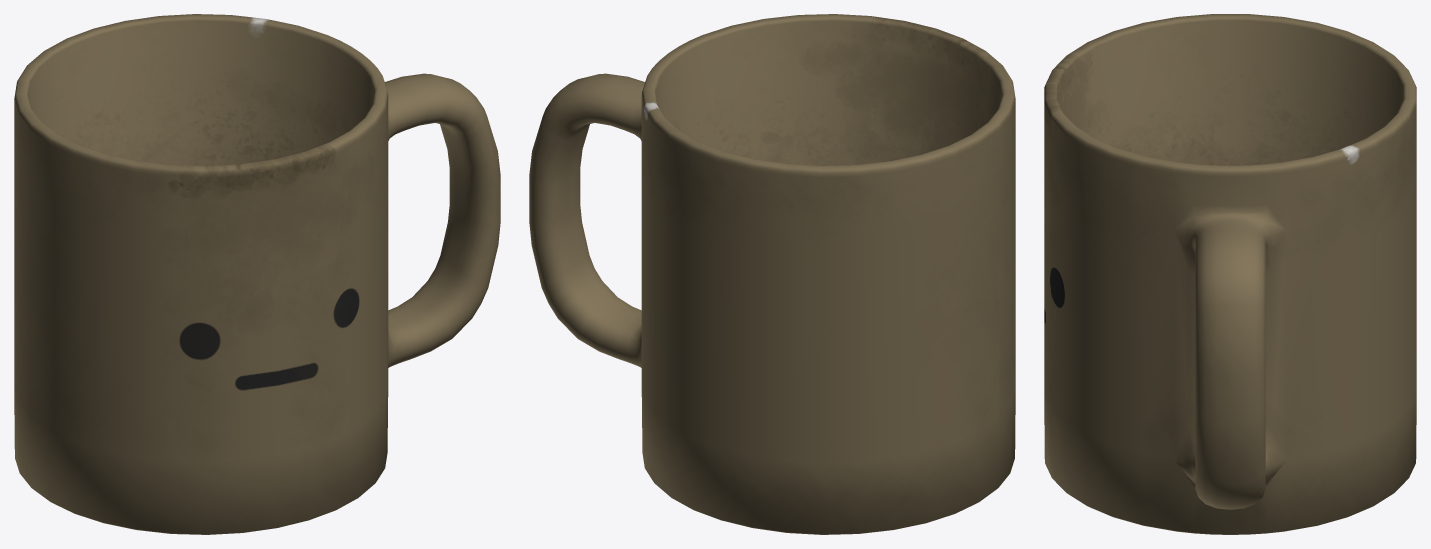
Rendered from cup.glb.
The picture shows the model from 3 angles, left to right: view 1: azimuth 30°, elevation 25°; view 2: azimuth 150°, elevation 25°; view 3: azimuth 270°, elevation 25°; orthographic projection.
Visible parts, largest first — view 1: cup_lp; view 2: cup_lp; view 3: cup_lp.
Boxes of the visible parts, x1,y1,x2,y2 form: cup_lp: [14, 14, 500, 534]; cup_lp: [529, 14, 1015, 534]; cup_lp: [1044, 14, 1416, 534].
Bounding box in the file's own units: 0.21 × 0.1623 × 0.1497.
Materials: 1 (1 with a texture image).
